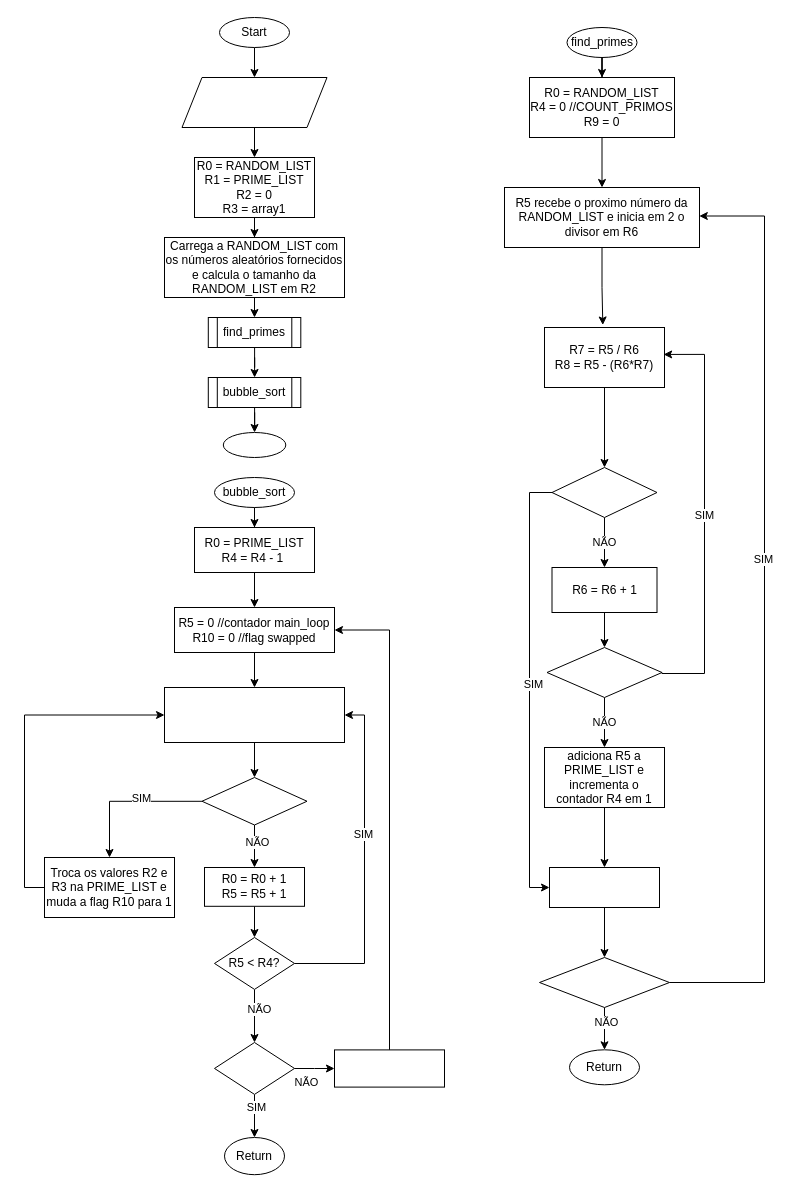
The diagram is 790 pixels wide and 1193 high, and some of its shapes have lost their labels. Here are the shapes that lost their labels. From the top down, the centre of each, then its label:
the point at 254,102: Recebe endereço e tamanho das listas
the point at 254,445: fim
the point at 604,492: R8 = 0?
the point at 604,672: R6 < R5?
the point at 254,714: R2 recebe o valor atual e R3 recebe o proximo valor de PRIME_LIST
the point at 254,800: R2 > R3?
the point at 604,887: Incrementa o indice R9 em 1
the point at 604,982: R2 > R9?
the point at 254,1068: R10 = 0?
the point at 389,1068: R0 = PRIME_LIST
